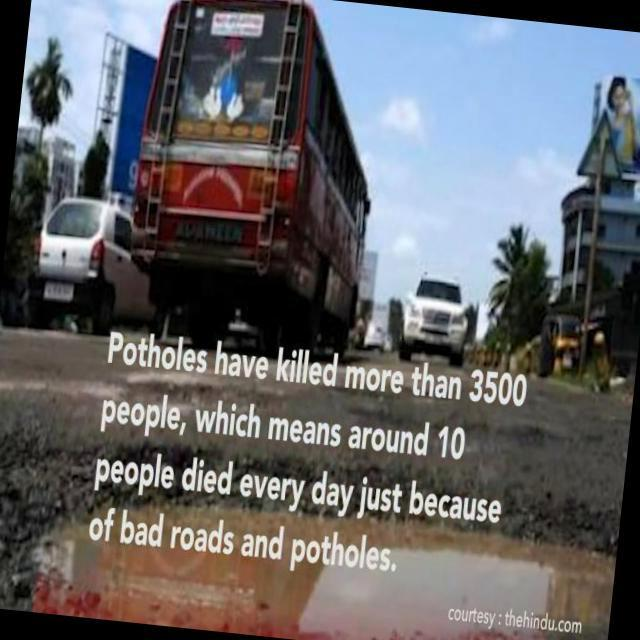Pothole: (38, 450, 599, 639)
